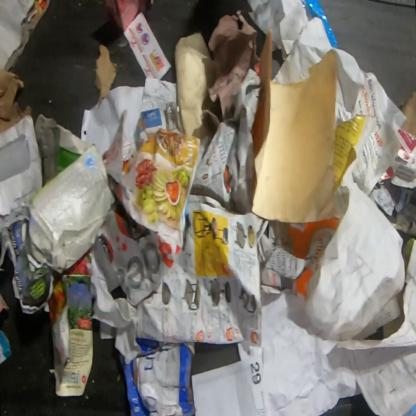cardboard: (96, 194, 185, 306), (117, 338, 197, 415), (378, 128, 416, 189), (0, 68, 33, 135), (93, 43, 118, 103), (400, 91, 416, 137)
rigid_plastic: (34, 112, 60, 188), (300, 0, 340, 49)
